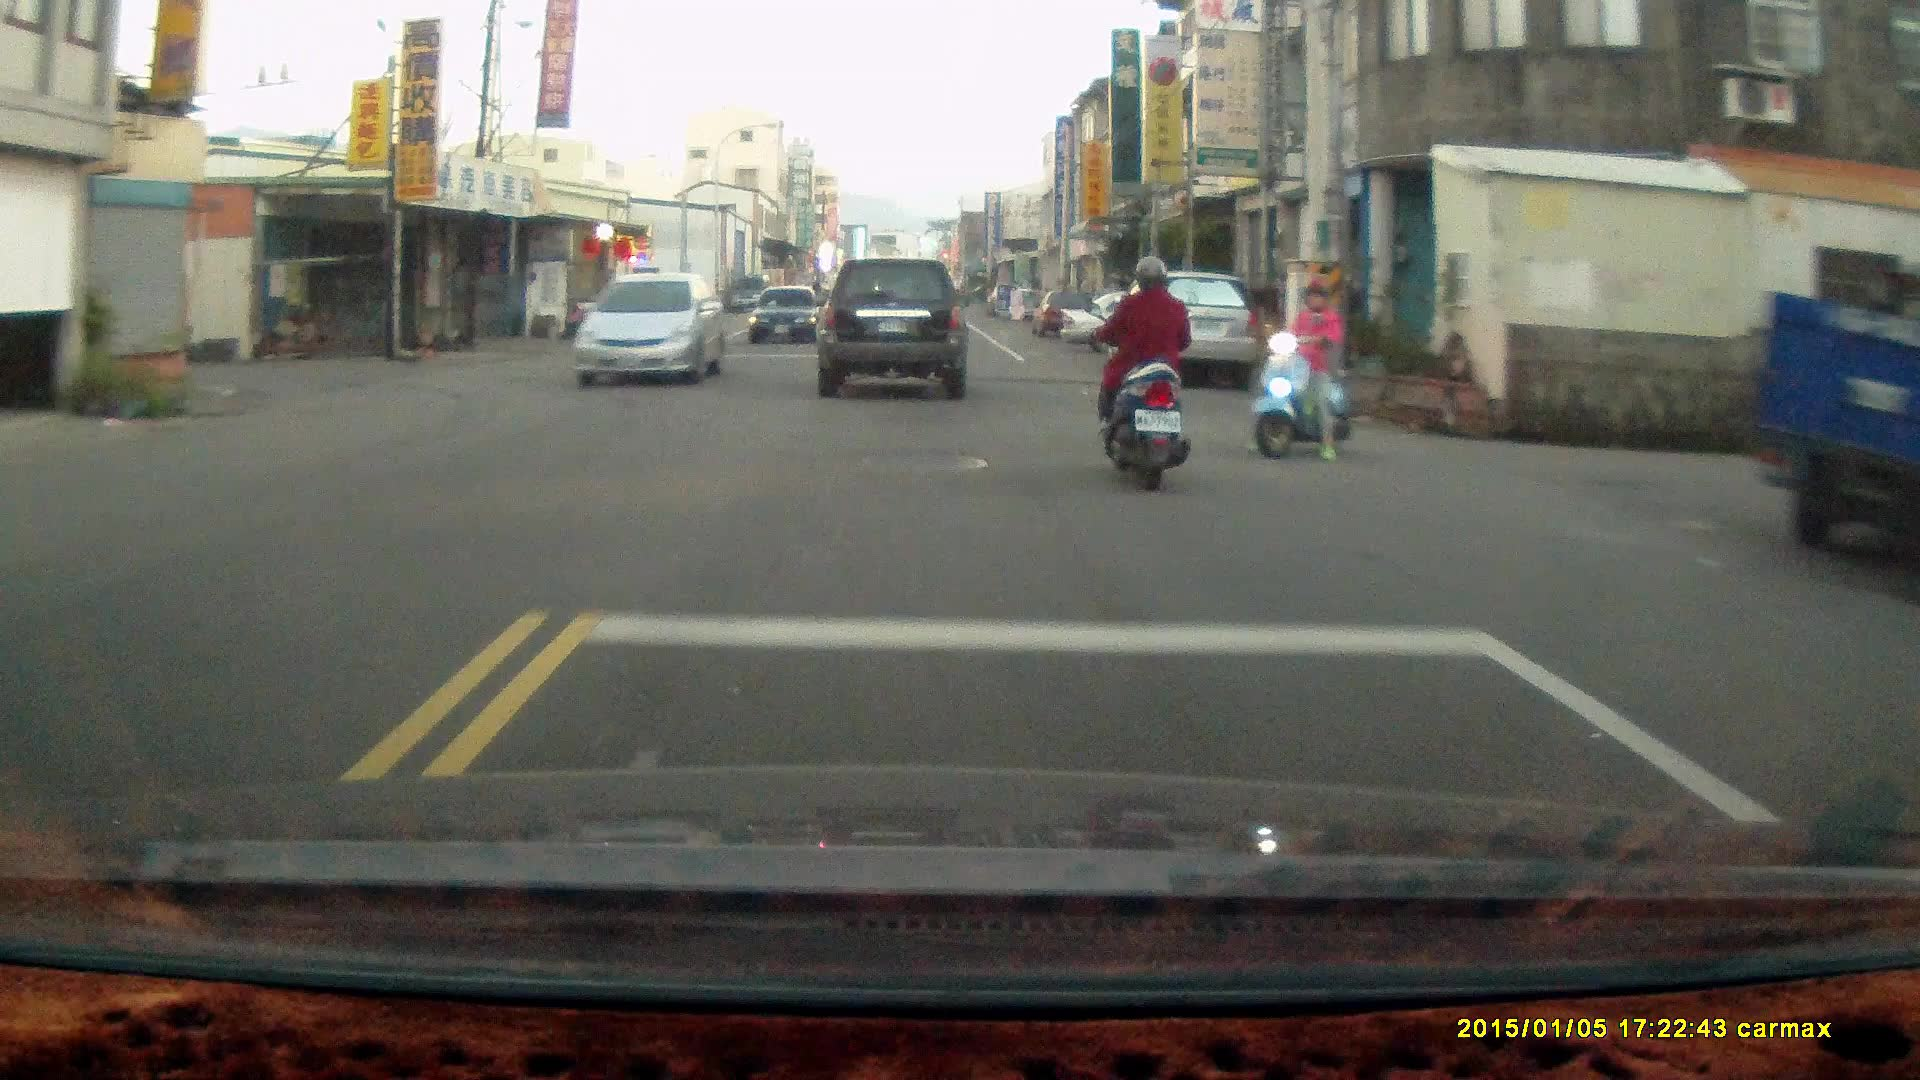rider: (1098, 253, 1190, 496), (1248, 271, 1359, 465)
vehicle: (1756, 244, 1920, 571), (816, 256, 971, 402), (1110, 272, 1264, 390), (569, 273, 729, 387), (750, 285, 823, 346)
